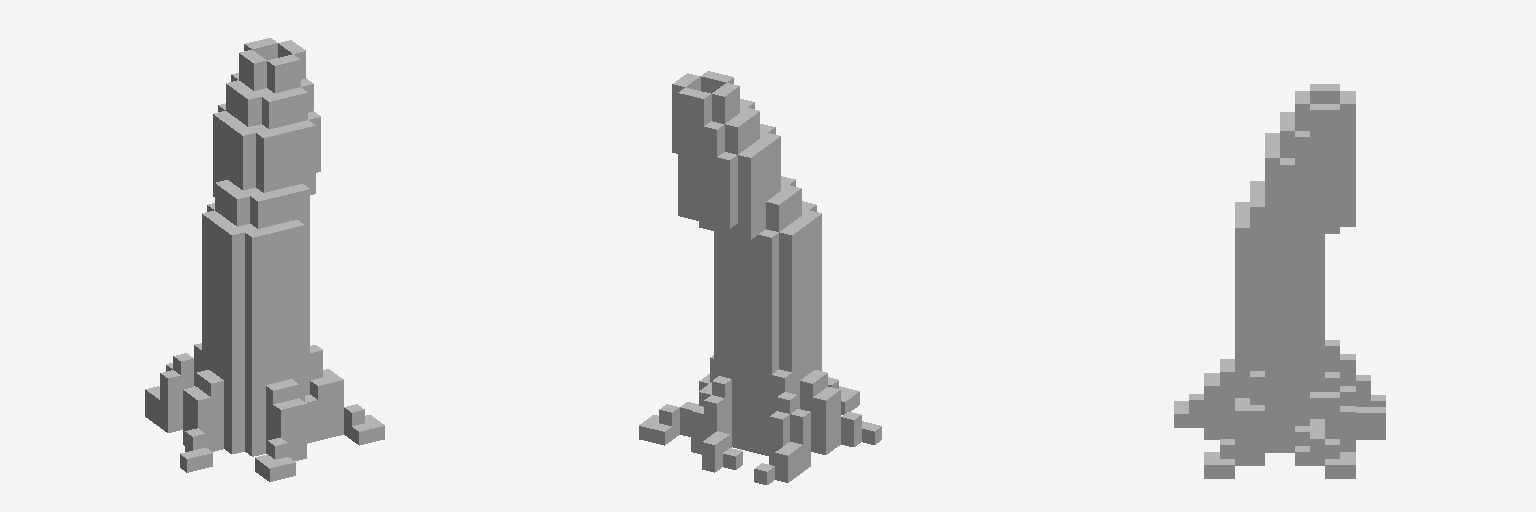
Rendered from stary pien.obj.
3 renders of one model, left to right at view 1: azimuth 30°, elevation 25°; view 2: azimuth 150°, elevation 25°; view 3: azimuth 270°, elevation 25°, orthographic.
Visible parts, largest first — view 1: object 1; view 2: object 1; view 3: object 1.
Part boxes in pixels (bbox=[...]): object 1: bbox=[145, 38, 384, 481]; object 1: bbox=[639, 71, 881, 484]; object 1: bbox=[1174, 84, 1385, 478].
Bounding box in the file's own units: 1.4 × 2.6 × 1.4.